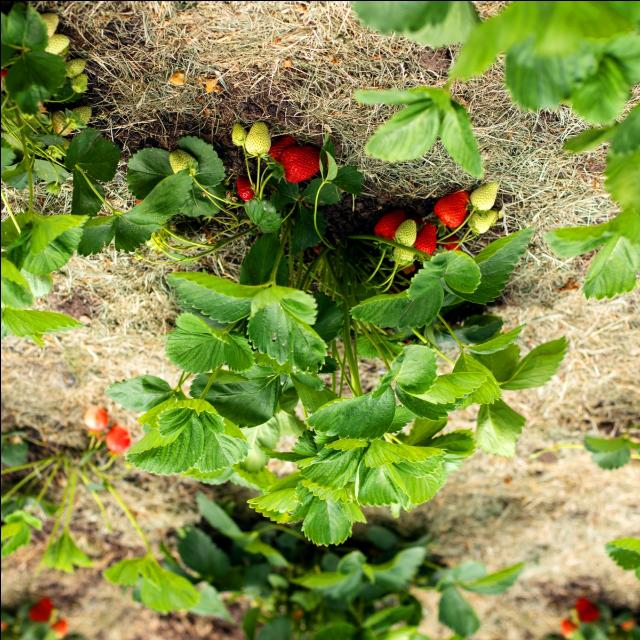Strawberries: (280, 148, 322, 182), (434, 190, 470, 228), (374, 207, 404, 241), (416, 220, 436, 256), (268, 134, 292, 162), (234, 176, 253, 200)
